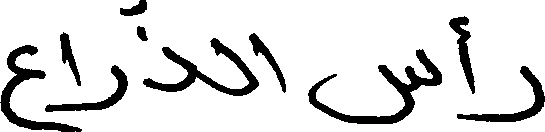أ: (455, 14, 475, 122)
ا: (256, 33, 288, 93), (57, 29, 83, 94)
ذ: (132, 21, 198, 92)
ر: (81, 6, 126, 111), (495, 63, 543, 122)
س: (306, 46, 442, 123)
ع: (0, 42, 46, 130)
ل: (208, 30, 256, 96)
